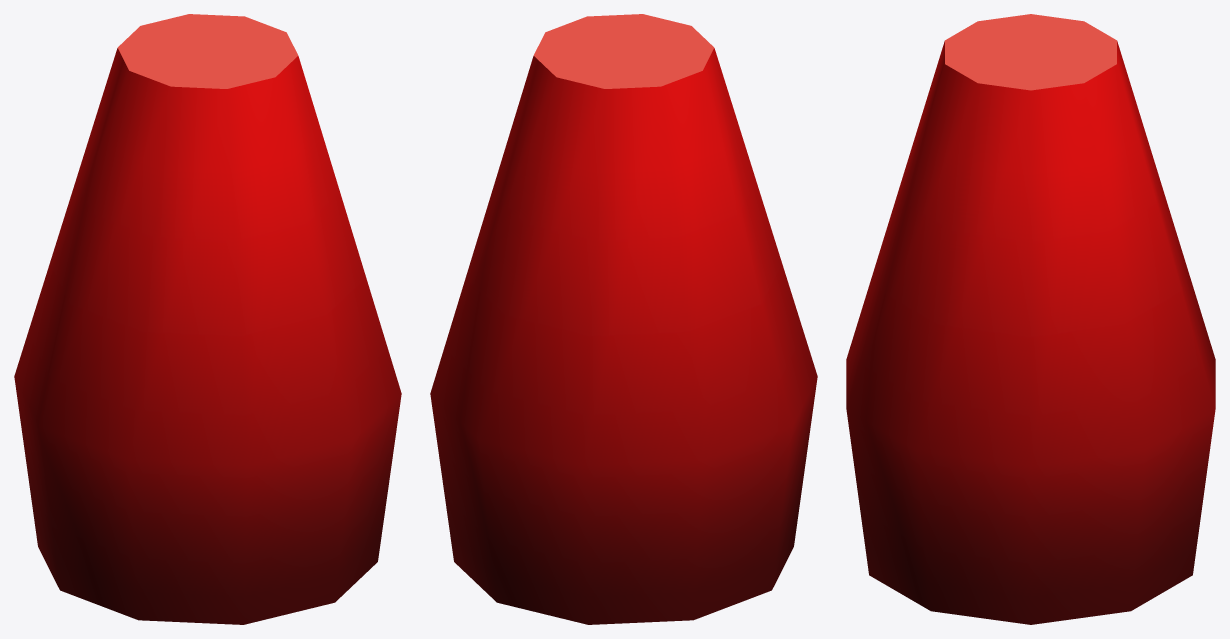
File: Poison_Liquid.fbx
3 renders of one model, left to right at view 1: azimuth 30°, elevation 25°; view 2: azimuth 150°, elevation 25°; view 3: azimuth 270°, elevation 25°, orthographic.
Parts seen in each view (by area): view 1: Poison_Liquid; view 2: Poison_Liquid; view 3: Poison_Liquid.
Boxes of the visible parts, left/top/right/bottom form: Poison_Liquid: left=14, top=14, right=401, bottom=624; Poison_Liquid: left=430, top=14, right=817, bottom=624; Poison_Liquid: left=846, top=14, right=1215, bottom=624.
Size of the model in its own units: 26.75 by 38.1 by 25.44.
